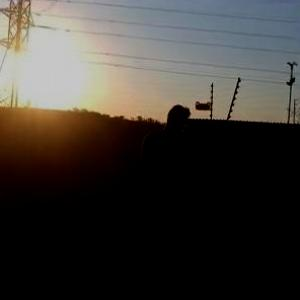follow: (136, 100, 196, 299)
